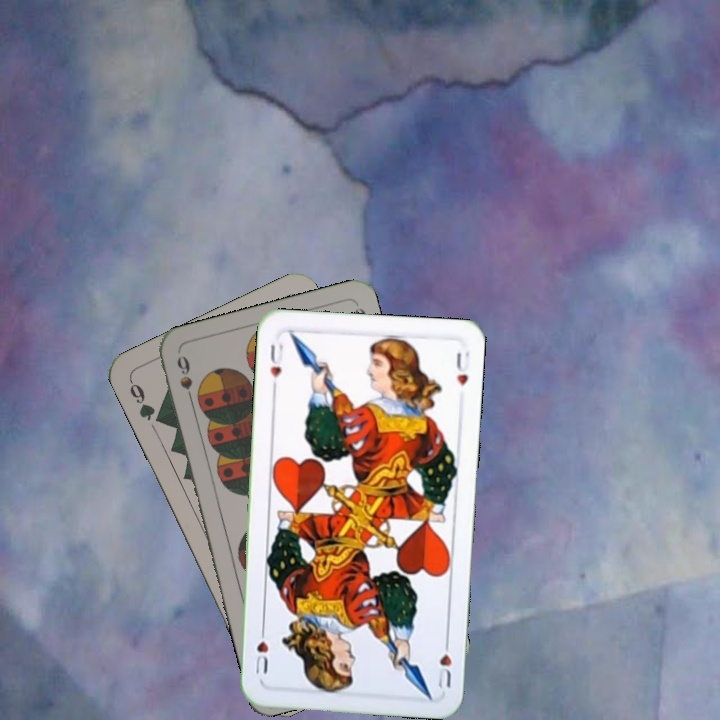G9: (125, 376, 167, 427)
HU: (434, 634, 454, 691), (266, 340, 286, 393)
S9: (172, 351, 197, 410)
